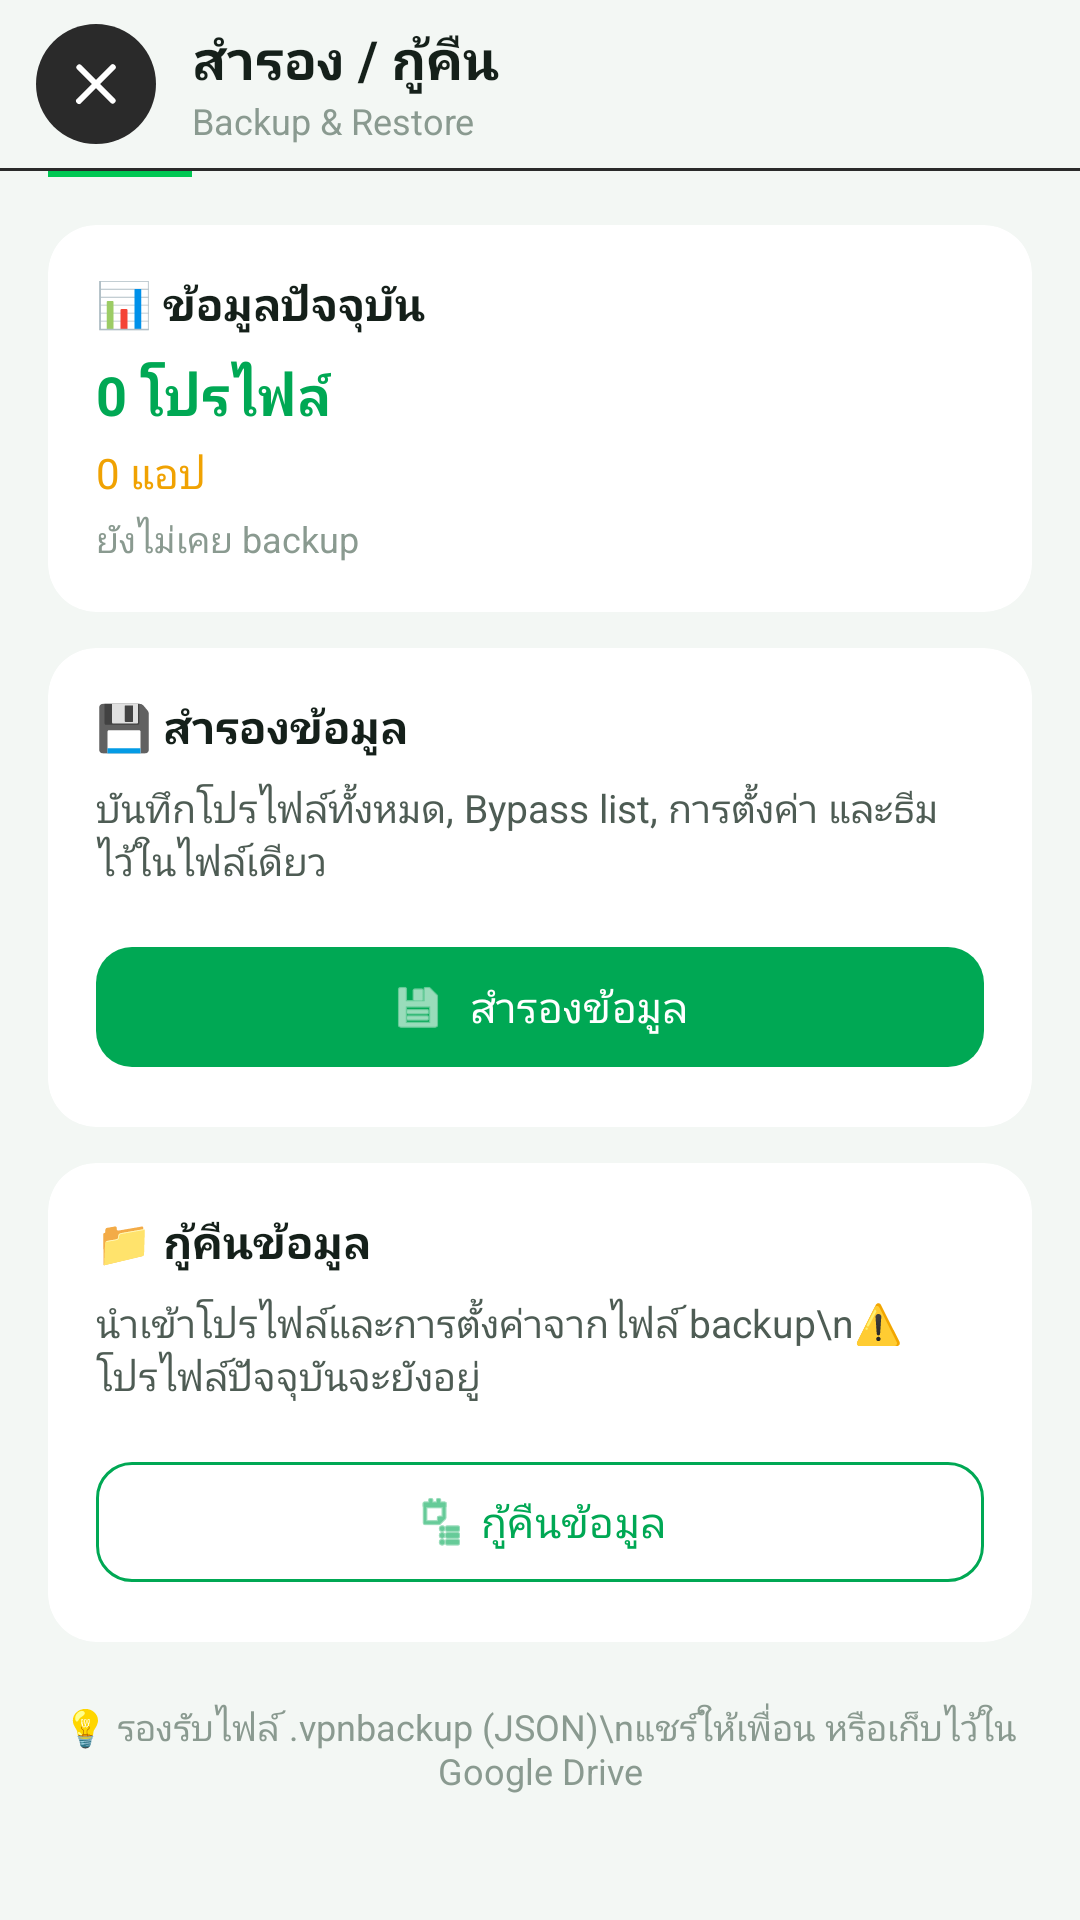

Named icons in this screenshot (1080px x 1920px) and their centers, [x,y]:
ปิด: [96,84]
